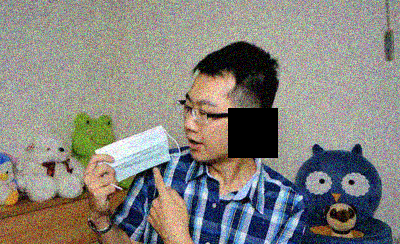without_mask: (183, 90, 241, 164)
